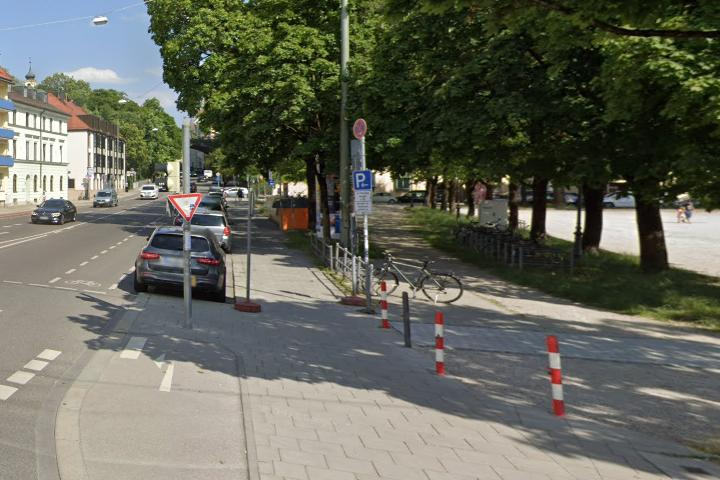traffic_sign: (167, 192, 204, 221), (353, 170, 372, 191), (353, 117, 367, 139)
vehicle: (132, 222, 229, 299), (27, 195, 79, 227), (90, 186, 120, 209), (137, 182, 160, 200)
